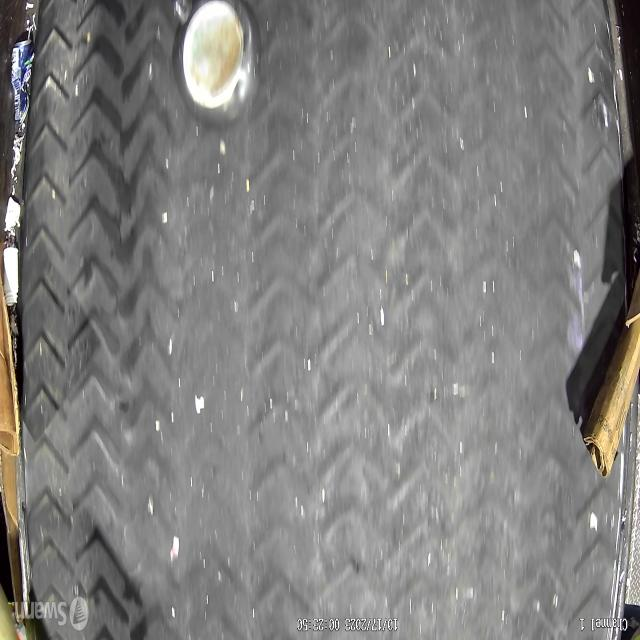can: (10, 38, 34, 126)
